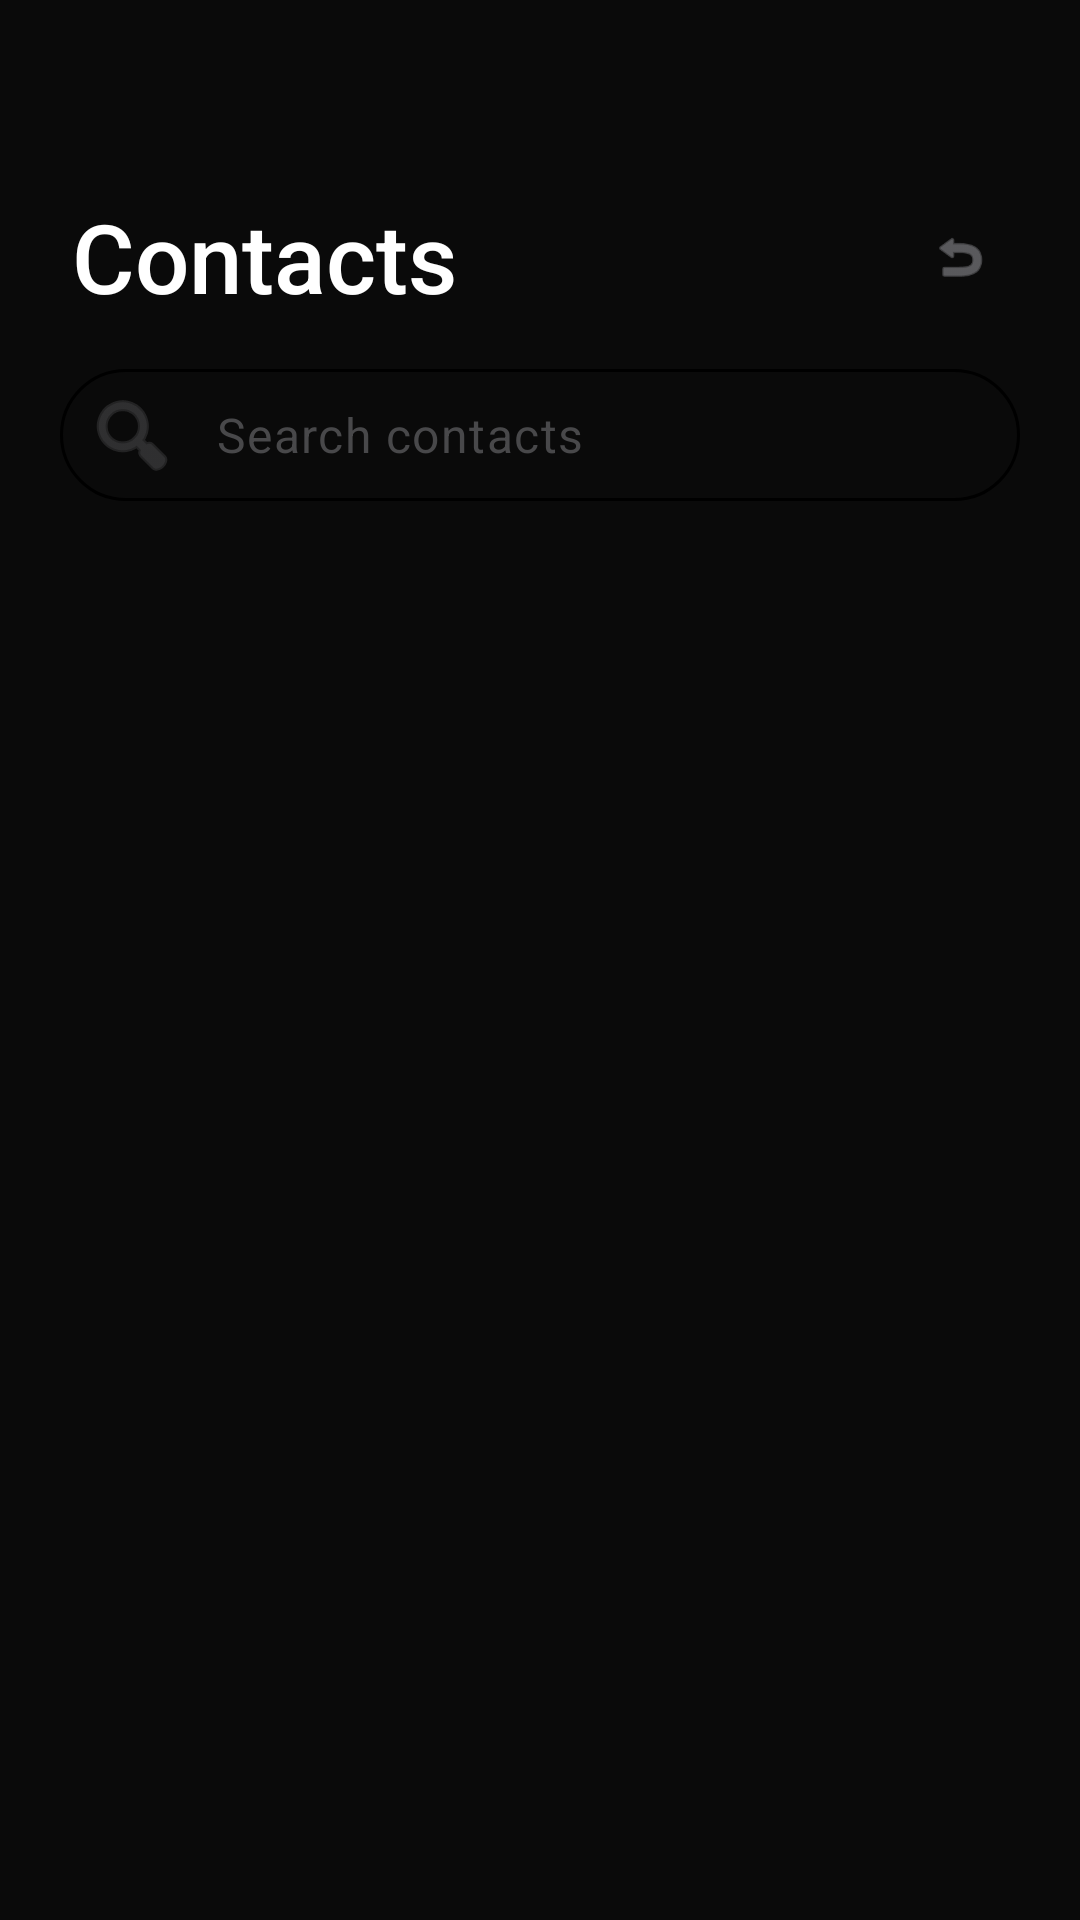

Screen size 1080px×1920px. Icon name, then its box in pixels as bbox=(x1, y1, x2, y2):
revert: bbox=(939, 238, 982, 277)
